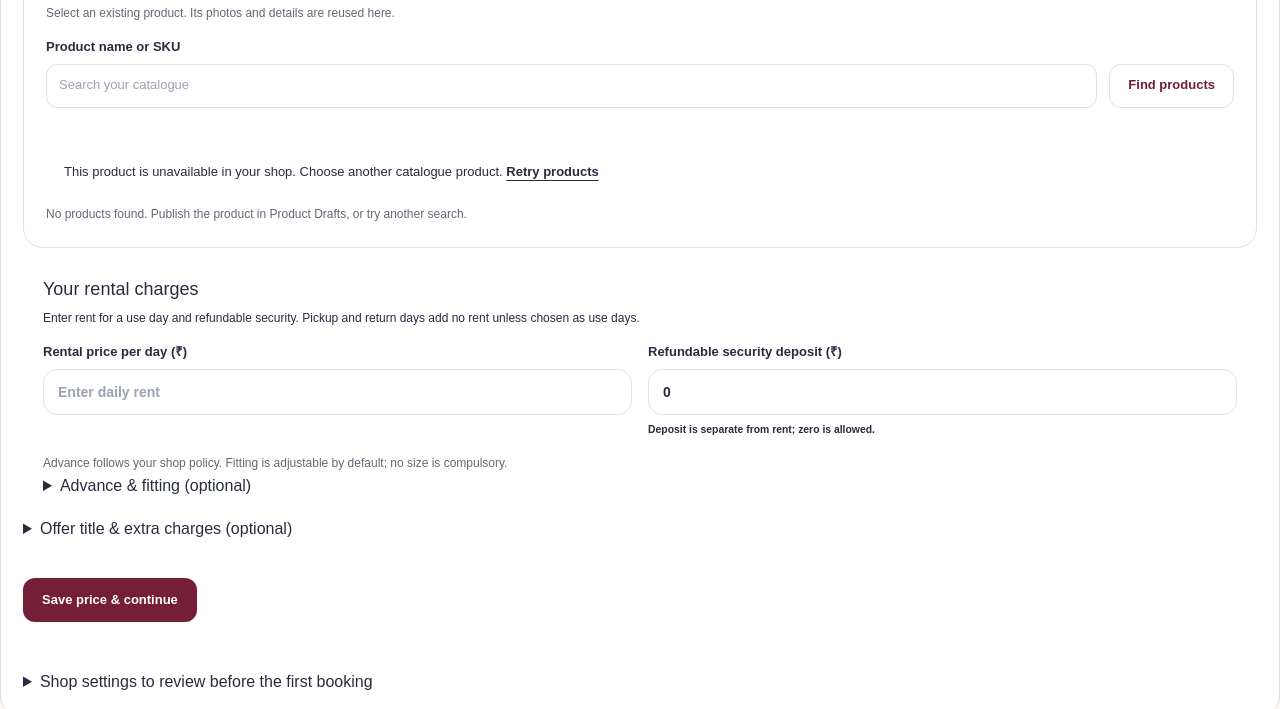
Test: unavailable linked products cannot create an offer with an invisible or missing component
(page scrolled)
expect the text "This product is unavailable in your shop" is shown: met, box [64,164,503,179]
Type "500" into the number field labelled "Rental price per day (₹)".
click(338, 392); type("500")  # box [43,369,632,415]
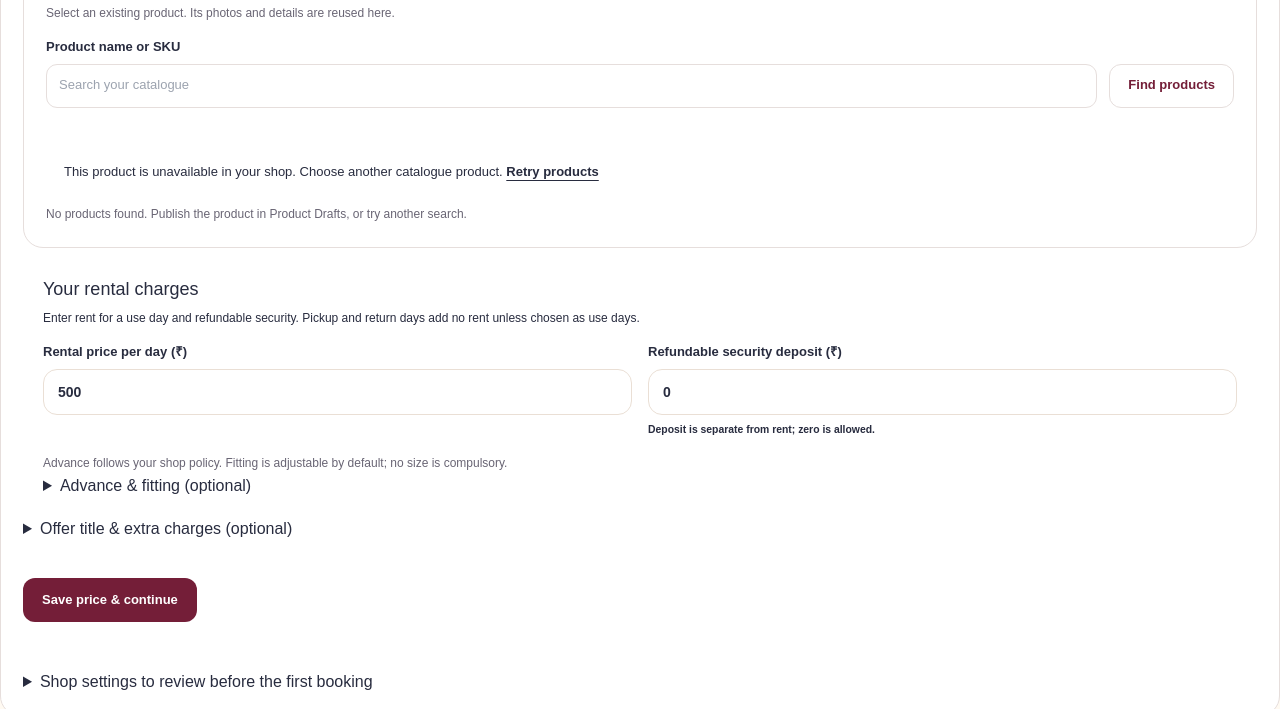
Click the button "Save price & continue".
click(110, 600)  # box [23,578,197,622]
(page scrolled)
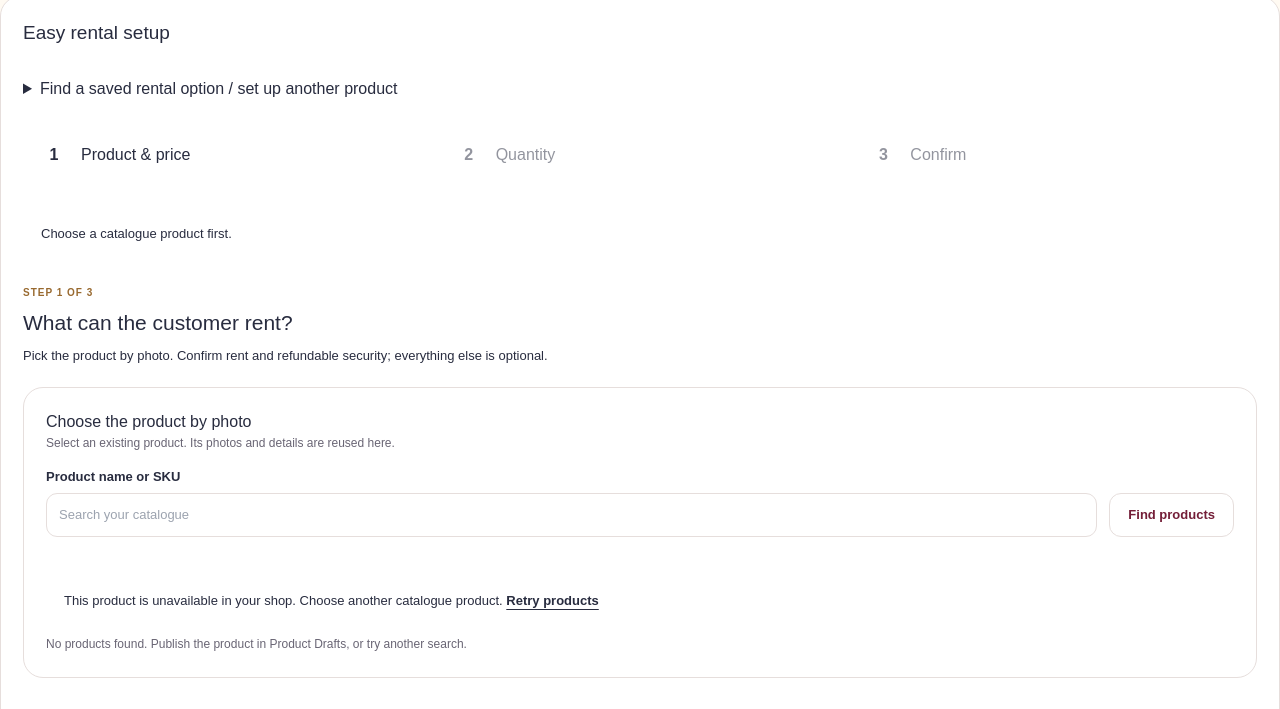
expect the text "Choose a catalogue product first." is shown: met, box [41,226,232,241]
